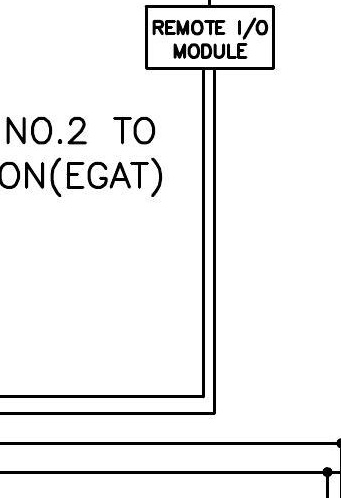remote_io_module: (144, 5, 275, 70)
